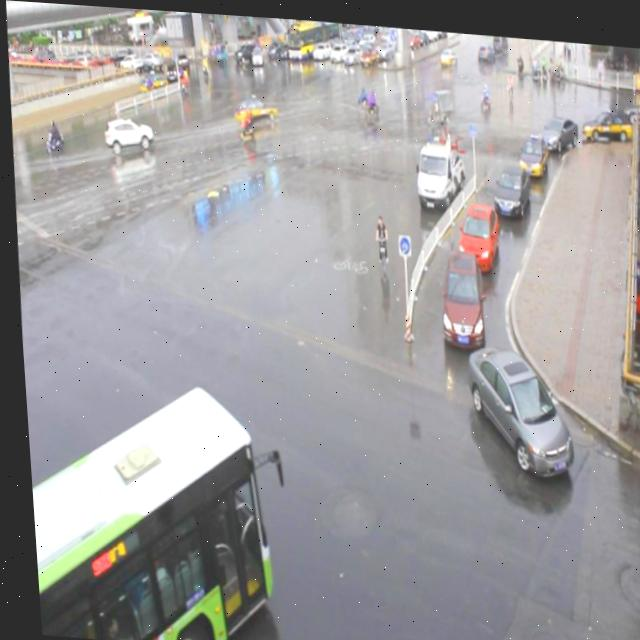bus: (409, 129, 464, 208)
car: (458, 336, 568, 469), (432, 240, 481, 342), (449, 194, 497, 266), (488, 154, 528, 211), (101, 113, 153, 149), (537, 105, 577, 147), (230, 88, 276, 124), (512, 127, 546, 171)
van: (19, 368, 269, 640)
